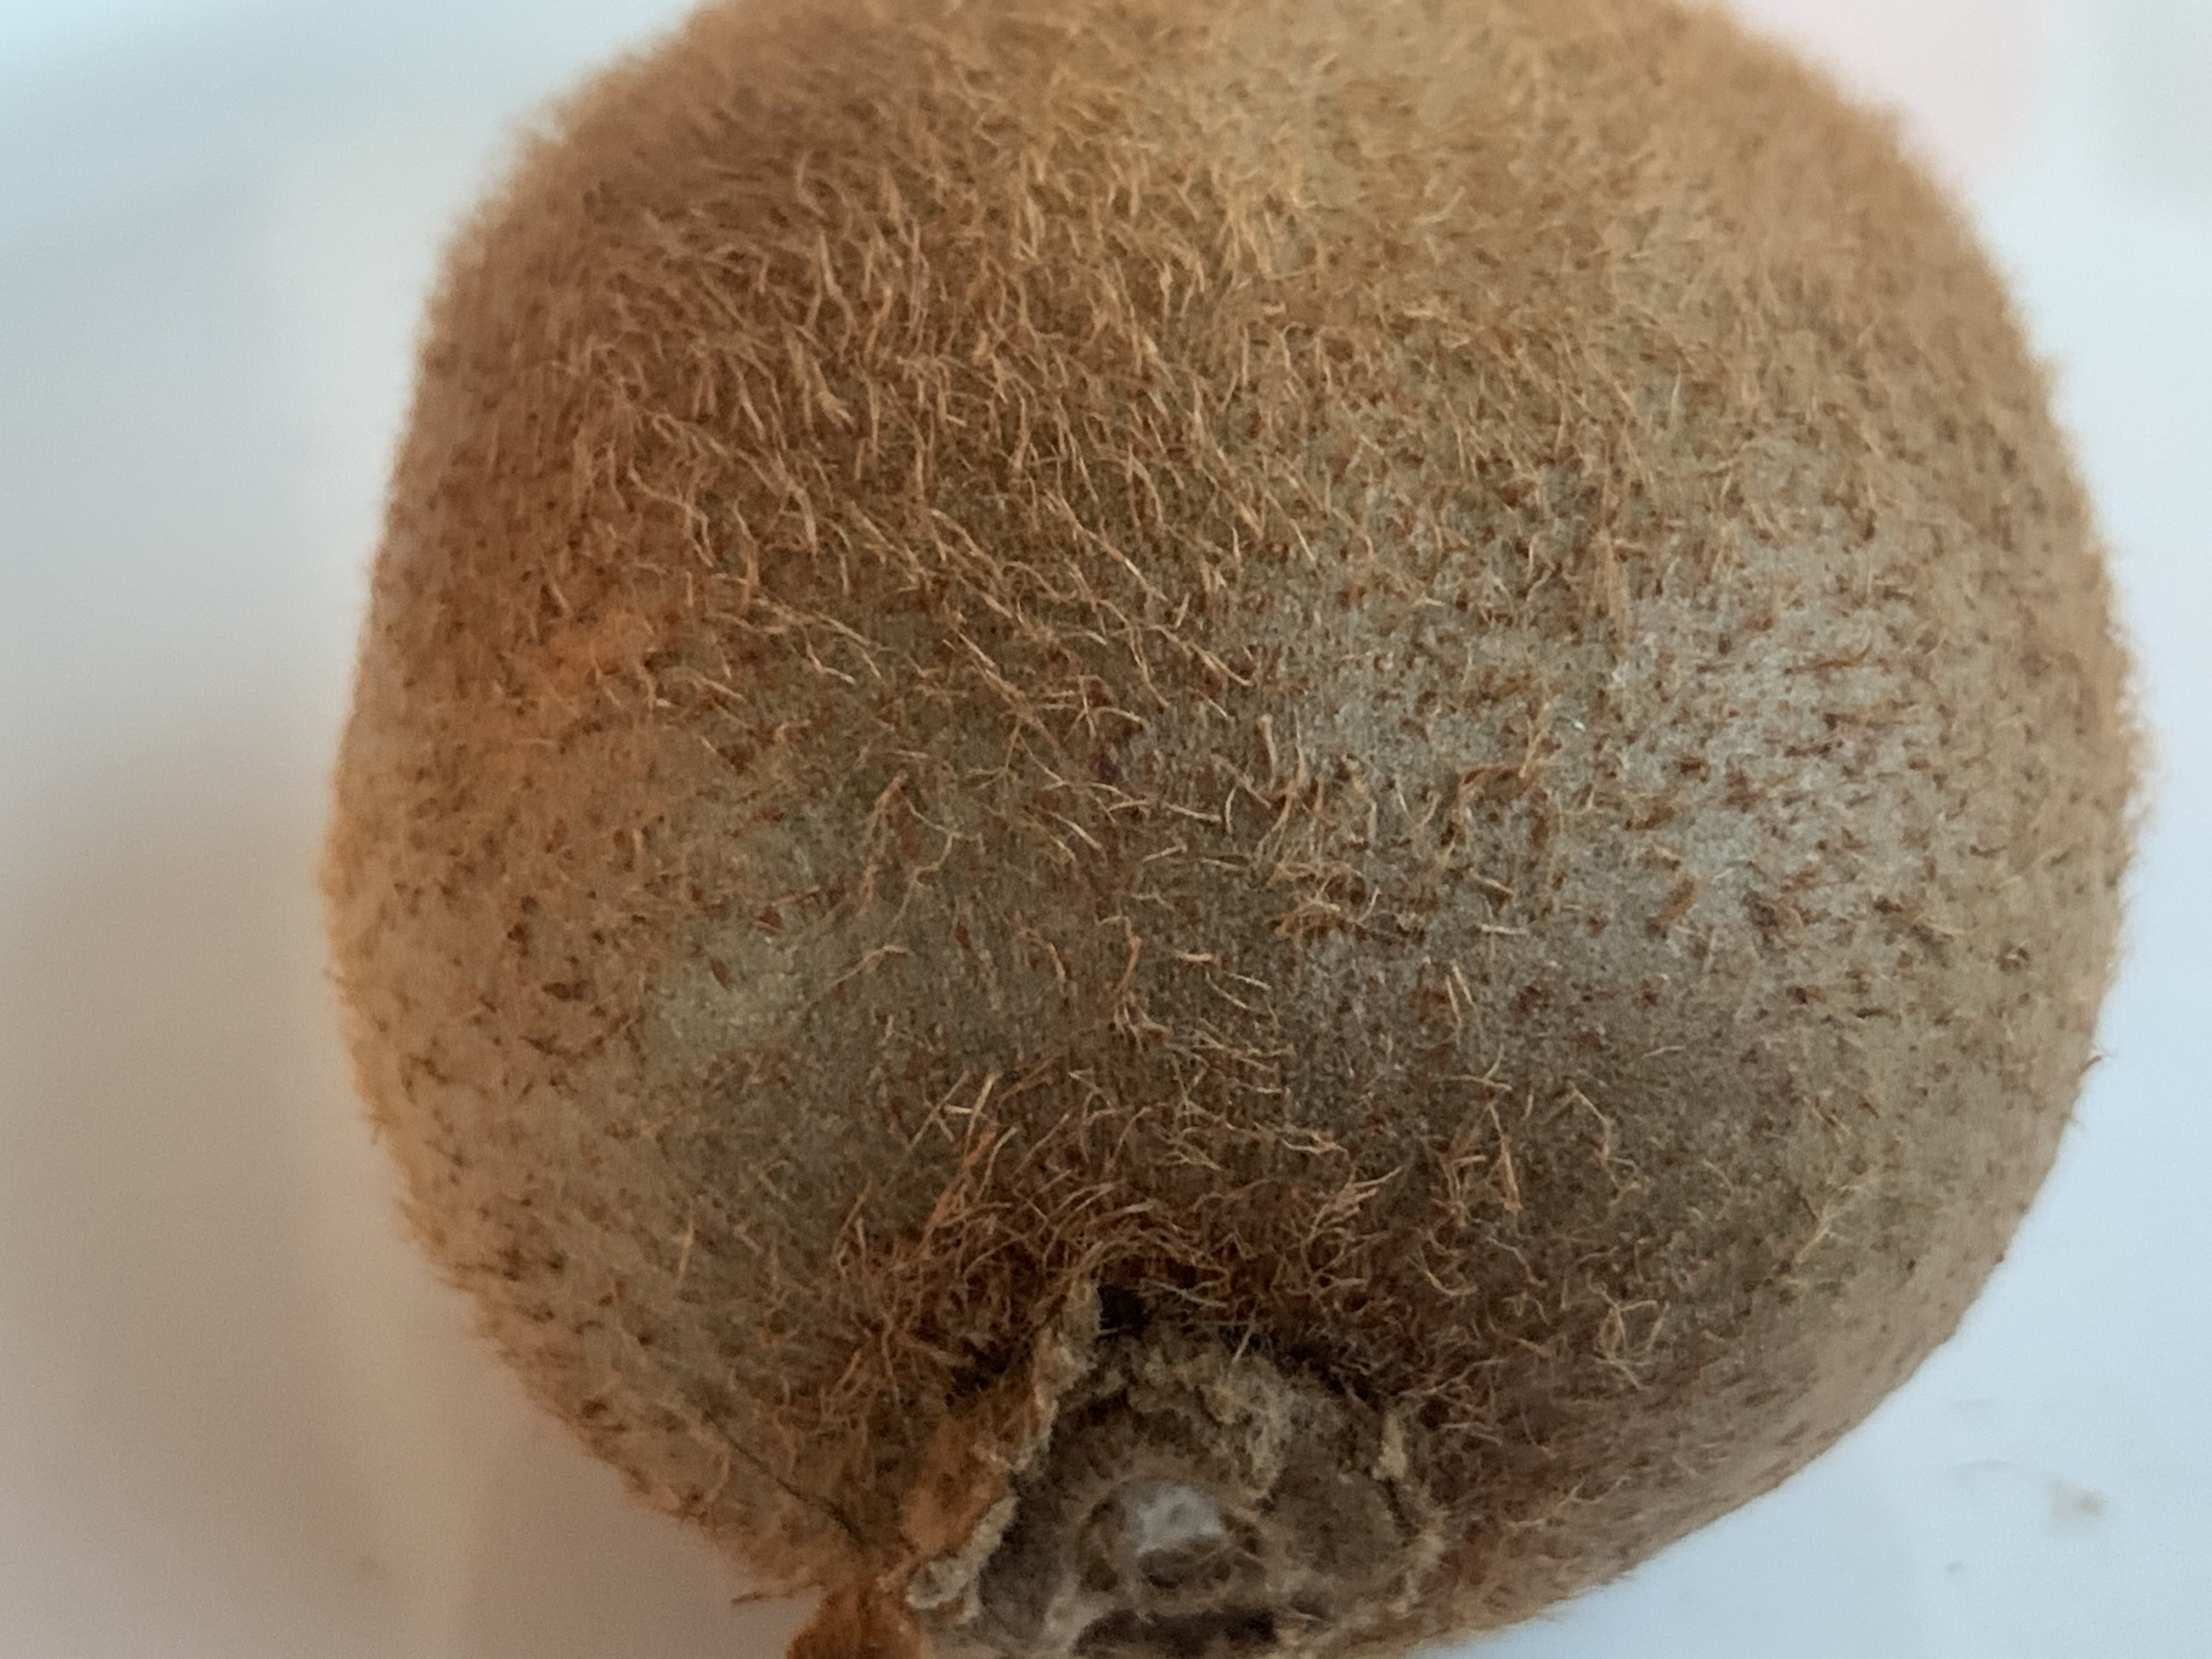kiwi: (352, 2, 2141, 1659)
